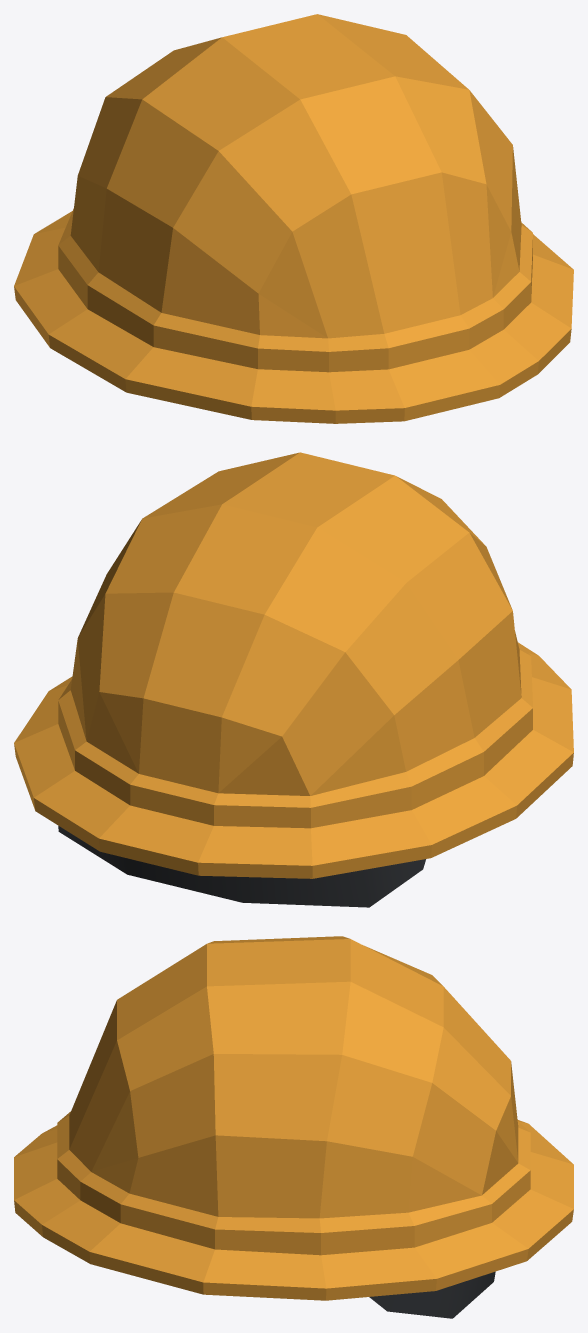
File: SM_Chr_Attach_Helmet_02.fbx
3 renders of one model, top to bottom at view 1: azimuth 30°, elevation 25°; view 2: azimuth 150°, elevation 25°; view 3: azimuth 270°, elevation 25°, orthographic. The views are drawn at different scales.
Visible parts, largest first — view 1: SM_Chr_Attach_Helmet_02; view 2: SM_Chr_Attach_Helmet_02; view 3: SM_Chr_Attach_Helmet_02.
Part boxes in pixels (x1=…): SM_Chr_Attach_Helmet_02: x1=14, y1=14, x2=573, y2=423; SM_Chr_Attach_Helmet_02: x1=14, y1=452, x2=573, y2=907; SM_Chr_Attach_Helmet_02: x1=14, y1=936, x2=573, y2=1318.
Size of the model in its own units: 36.06 by 23.36 by 40.52.
